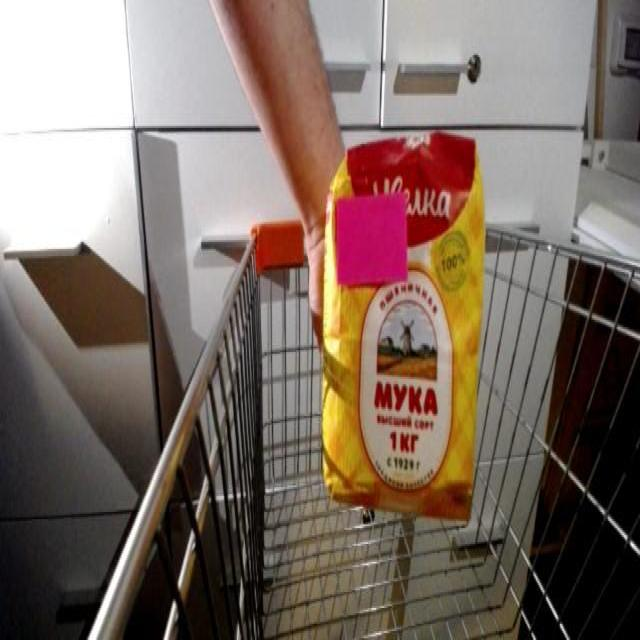Almond Milk: (313, 114, 490, 535)
